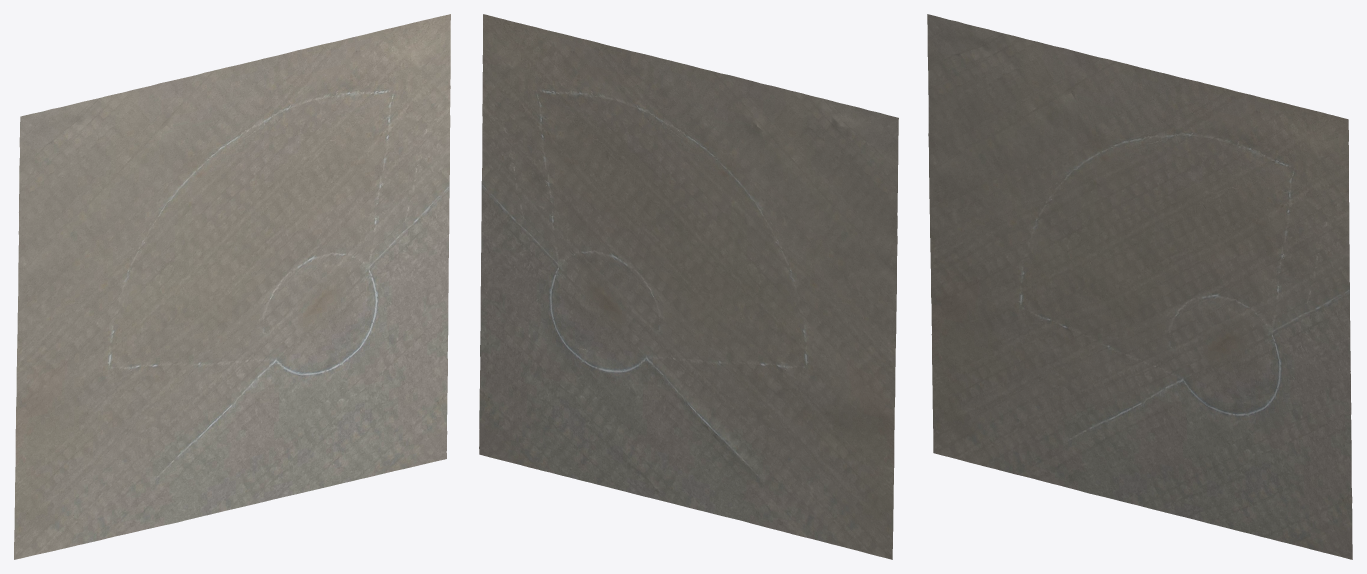
The model's file is Tile_+021_+010.fbx.
3 renders of one model, left to right at view 1: azimuth 30°, elevation 25°; view 2: azimuth 150°, elevation 25°; view 3: azimuth 330°, elevation 25°, orthographic. The views are drawn at different scales.
Visible parts, largest first — view 1: DefaultName; view 2: DefaultName; view 3: DefaultName.
Part boxes in pixels (left/top/right/bottom): DefaultName: left=14, top=14, right=450, bottom=559; DefaultName: left=479, top=14, right=898, bottom=559; DefaultName: left=927, top=14, right=1352, bottom=559.
Size of the model in its own units: 22.54 by 22.54 by 0.8054.
